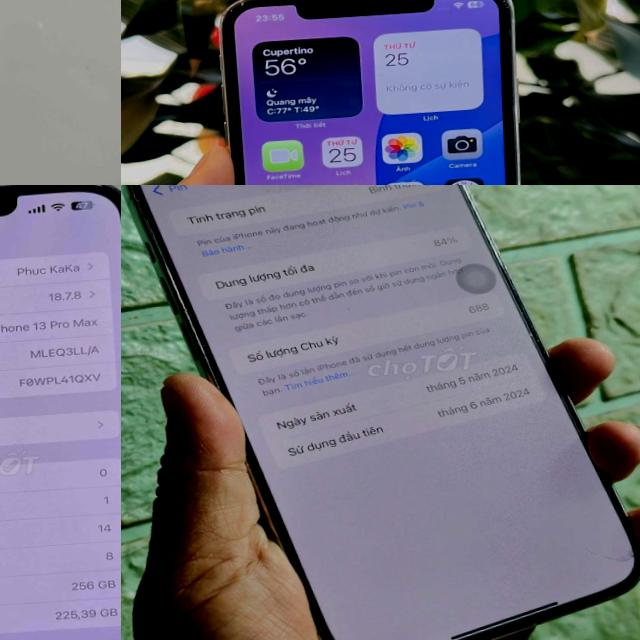gen_11: (204, 0, 553, 185), (0, 0, 121, 185)
gen_12_13: (0, 185, 121, 640)
gen_15: (121, 185, 640, 640)
scratch: (214, 0, 263, 23), (478, 0, 522, 20)
